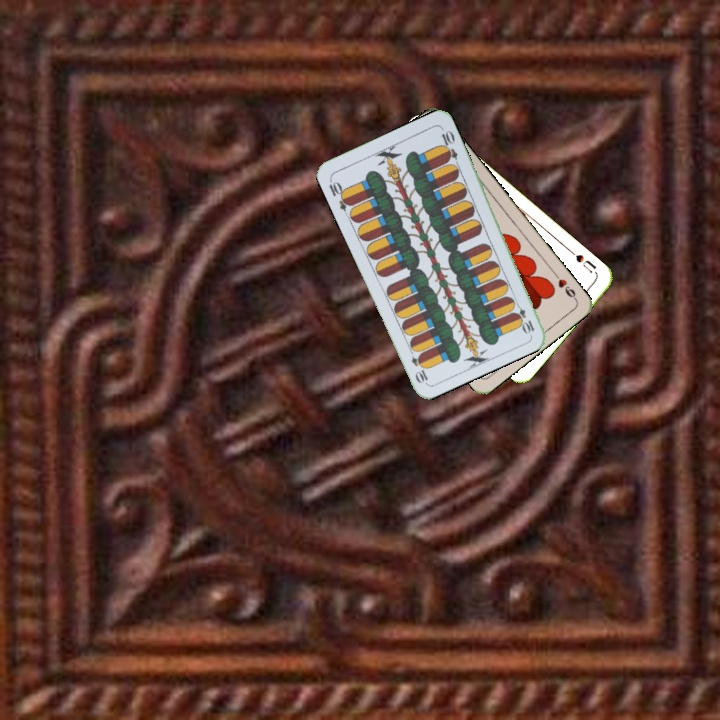E10: (325, 175, 354, 213), (510, 297, 537, 336)
H9: (550, 268, 579, 303)
SU: (566, 246, 599, 276)
